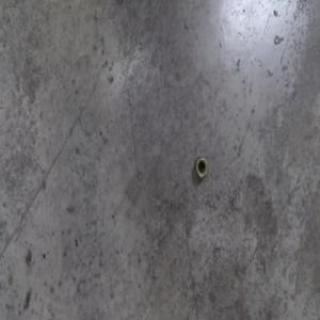Nuttrack_idkeyframe: (195, 155, 208, 180)
